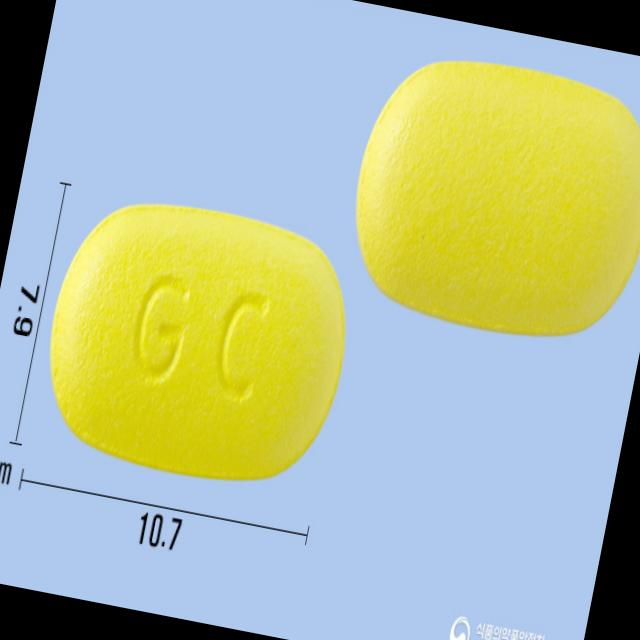Clarimicin: (23, 171, 370, 506)
